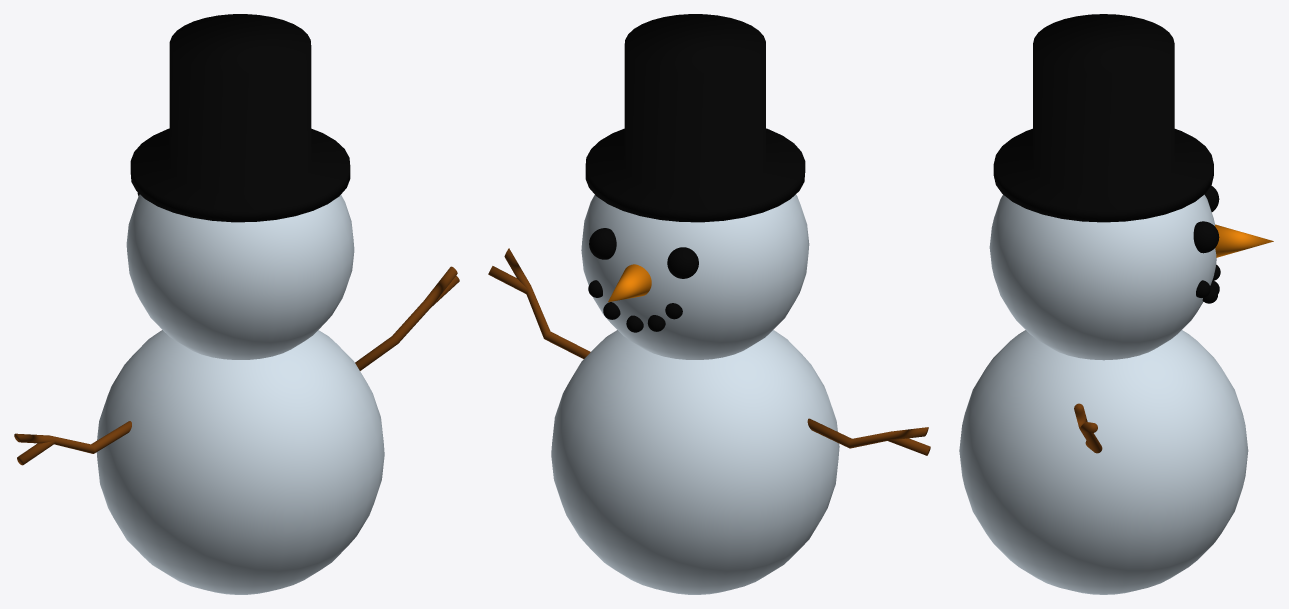
File: snowman.fbx
3 renders of one model, left to right at view 1: azimuth 30°, elevation 25°; view 2: azimuth 150°, elevation 25°; view 3: azimuth 270°, elevation 25°, orthographic.
Visible parts, largest first — view 1: Cone; view 2: Cone; view 3: Cone.
Boxes of the visible parts, x1,y1,x2,y2 form: Cone: (14,14,459,594); Cone: (488,14,930,594); Cone: (959,14,1273,594).
Bounding box in the file's own units: 287 × 462 × 539.
